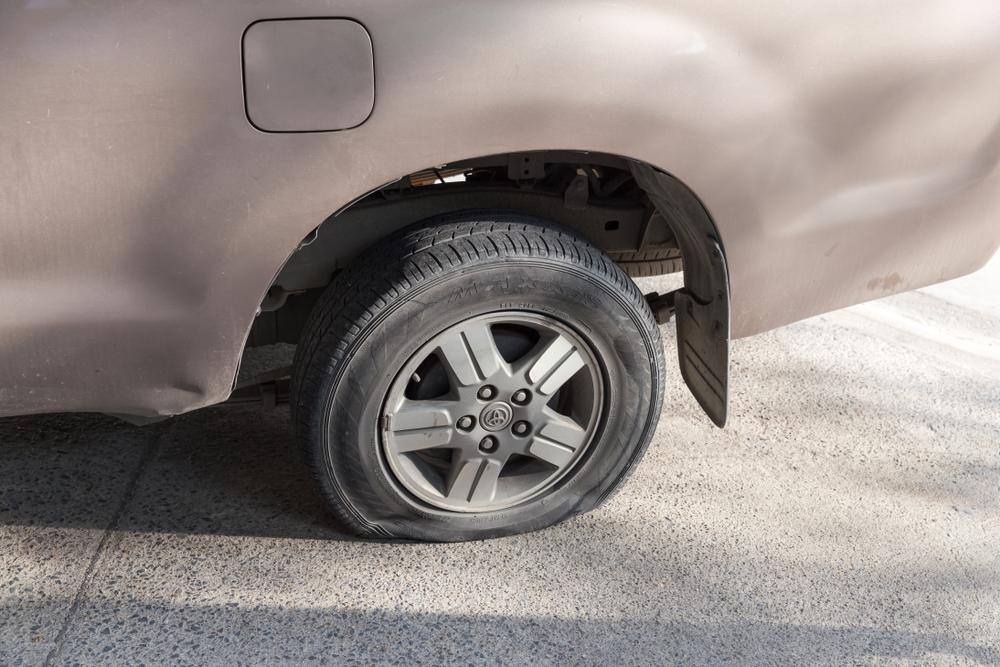dent: (758, 40, 997, 233), (153, 378, 206, 408)
tire flat: (287, 223, 664, 543)
